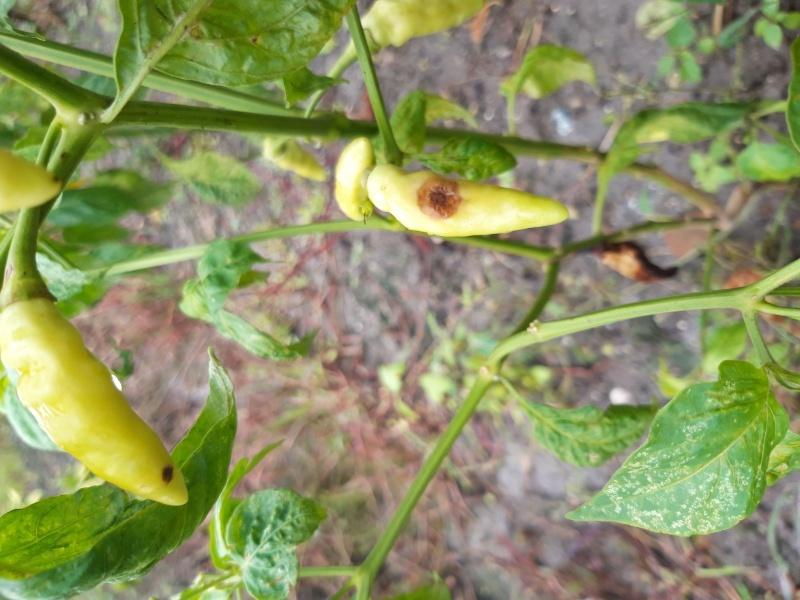antraknosa: (1, 292, 194, 508), (364, 161, 573, 239)
cabai_normal: (356, 1, 498, 49), (334, 137, 378, 223)
